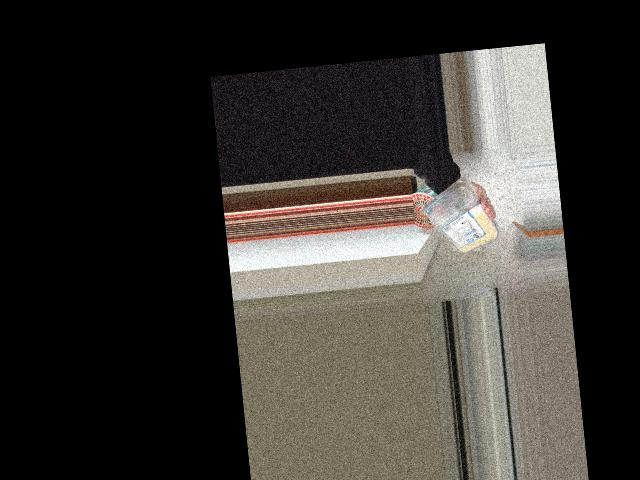cheese: (423, 184, 491, 259)
